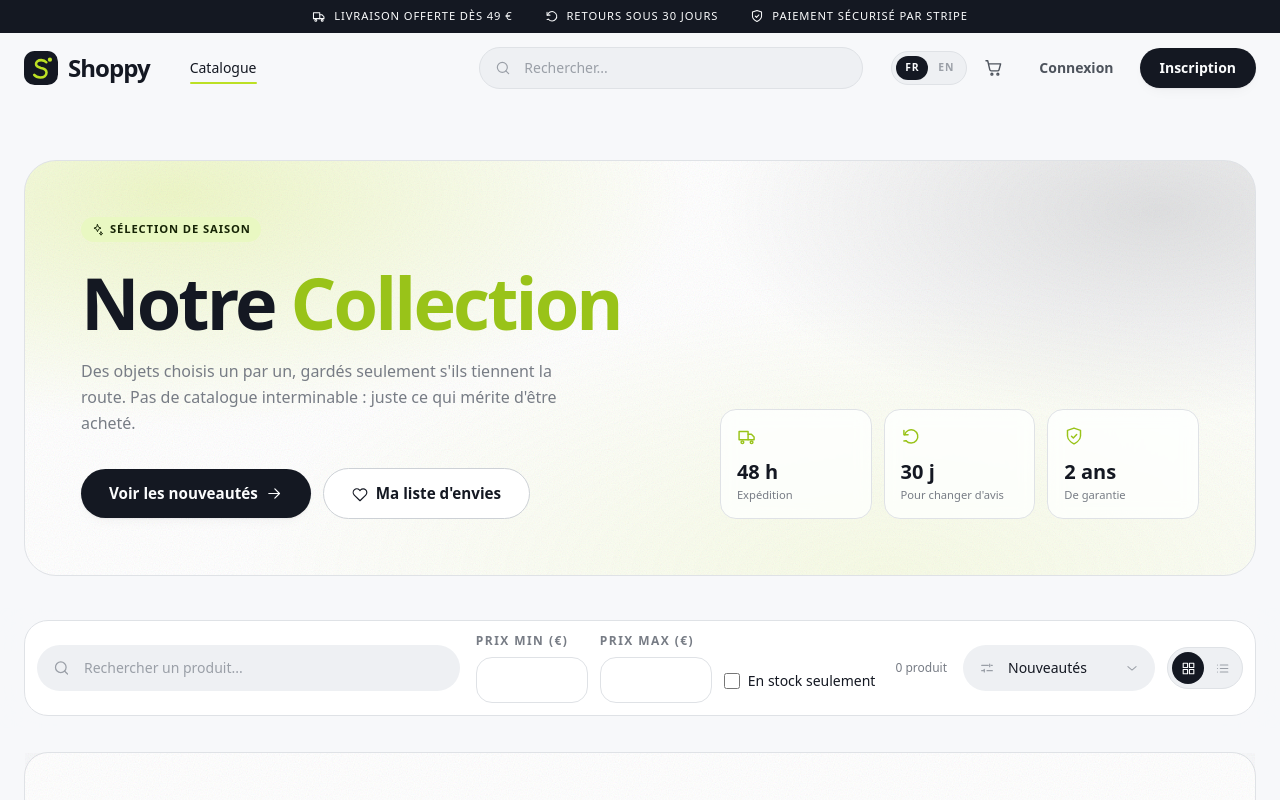
Test: AppLayout language › switches the storefront from french to english
The image size is (1280, 800).
Expected: the link "Catalogue" is shown, [190,54,257,82]
Expected: the link "Connexion" is shown, [1039,58,1114,77]
Step 1. Click the button with aria-label "English" → (946, 68), box [930,56,962,80]
(page scrolled)
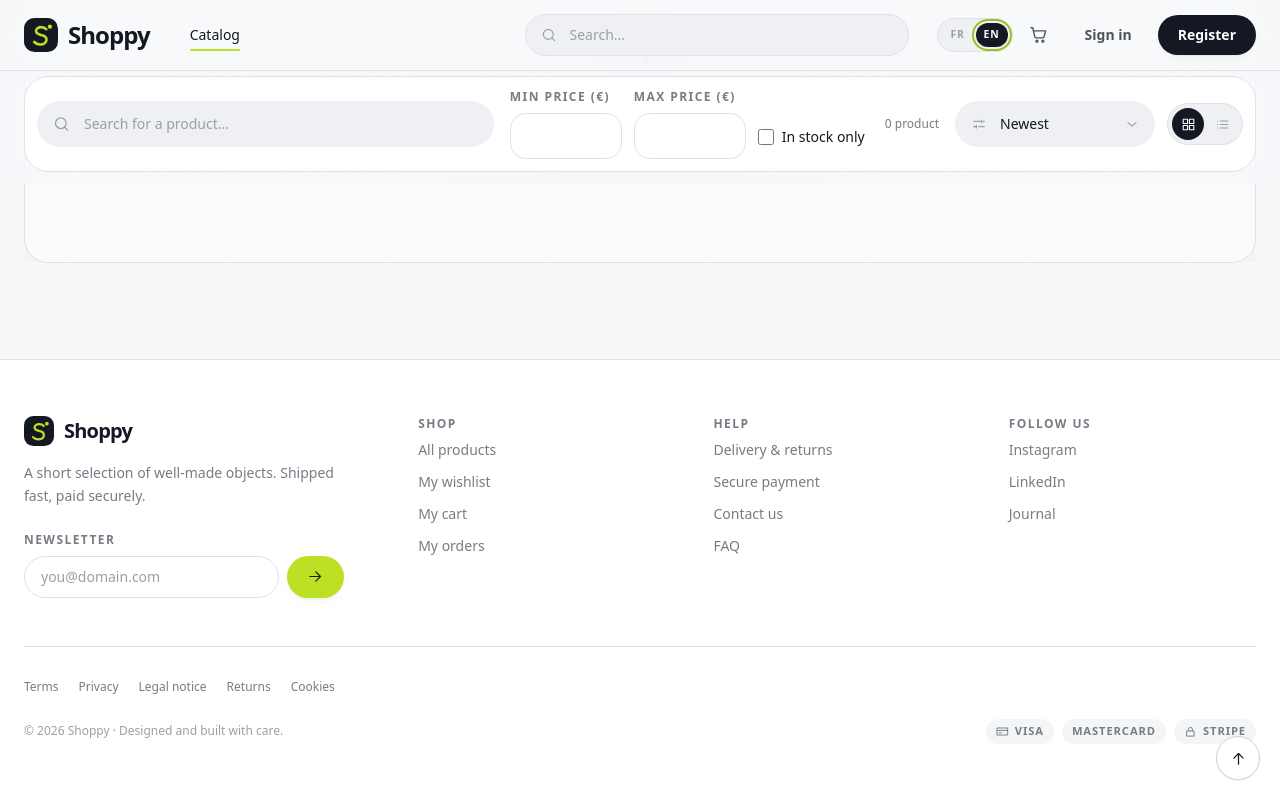
Expected: the link "Catalog" is shown, [190,21,240,49]
Now the link "Sign in" is shown, box [1084,25,1132,44]
Now the link "All products" is shown, box [418,440,496,459]
